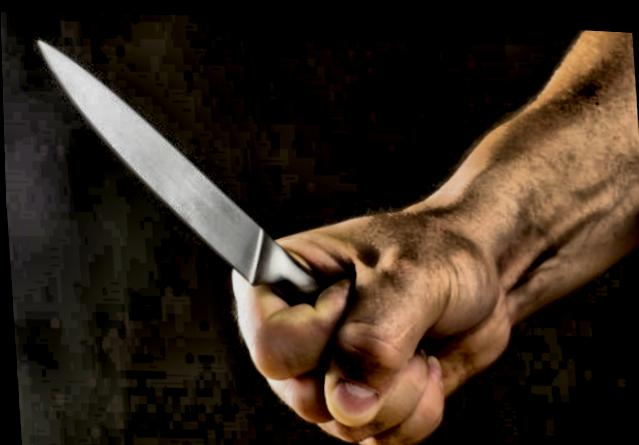knife: (30, 20, 423, 431)
